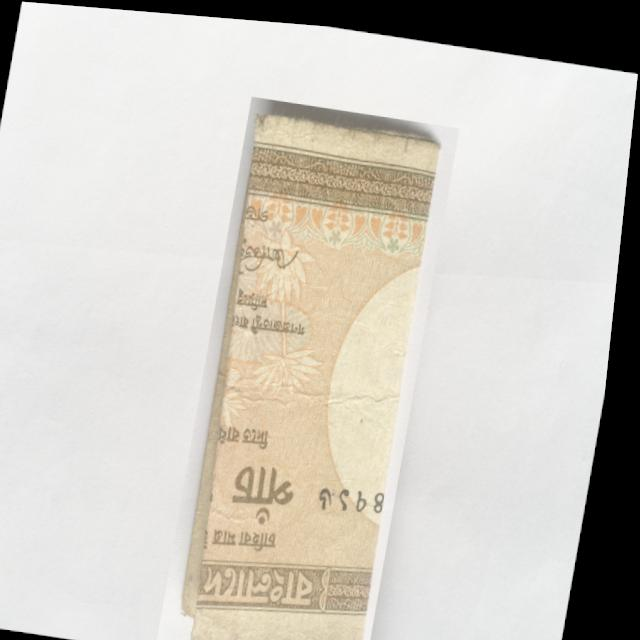Taka: (168, 90, 462, 640)
